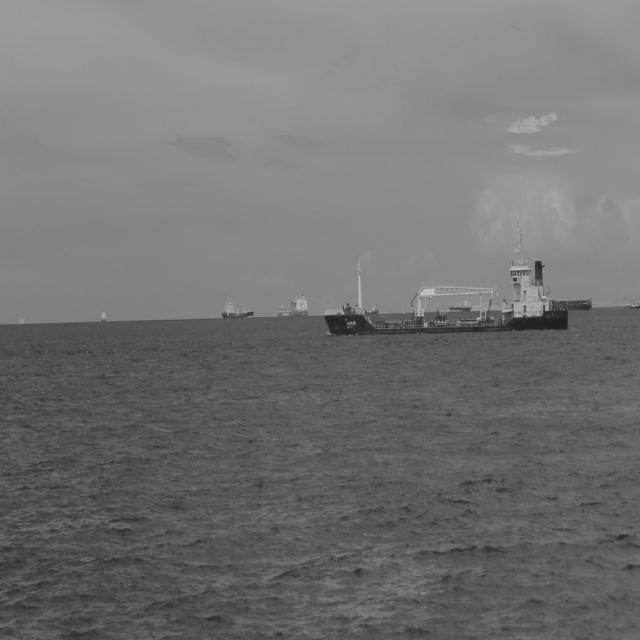ship: (323, 210, 573, 344), (276, 282, 312, 323), (219, 288, 258, 325)
